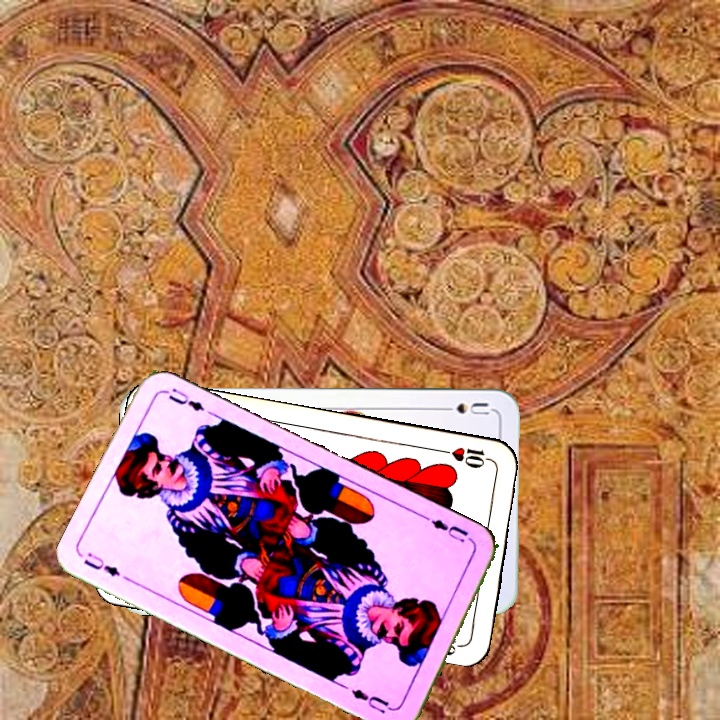EU: (422, 513, 477, 548), (79, 548, 123, 579)
H10: (436, 443, 495, 471)
SU: (434, 398, 492, 418)
